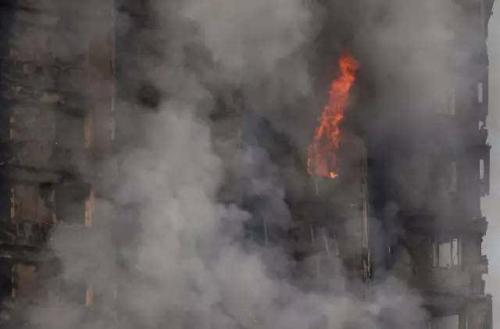fire: (306, 48, 362, 183)
smoke: (61, 18, 275, 294)
